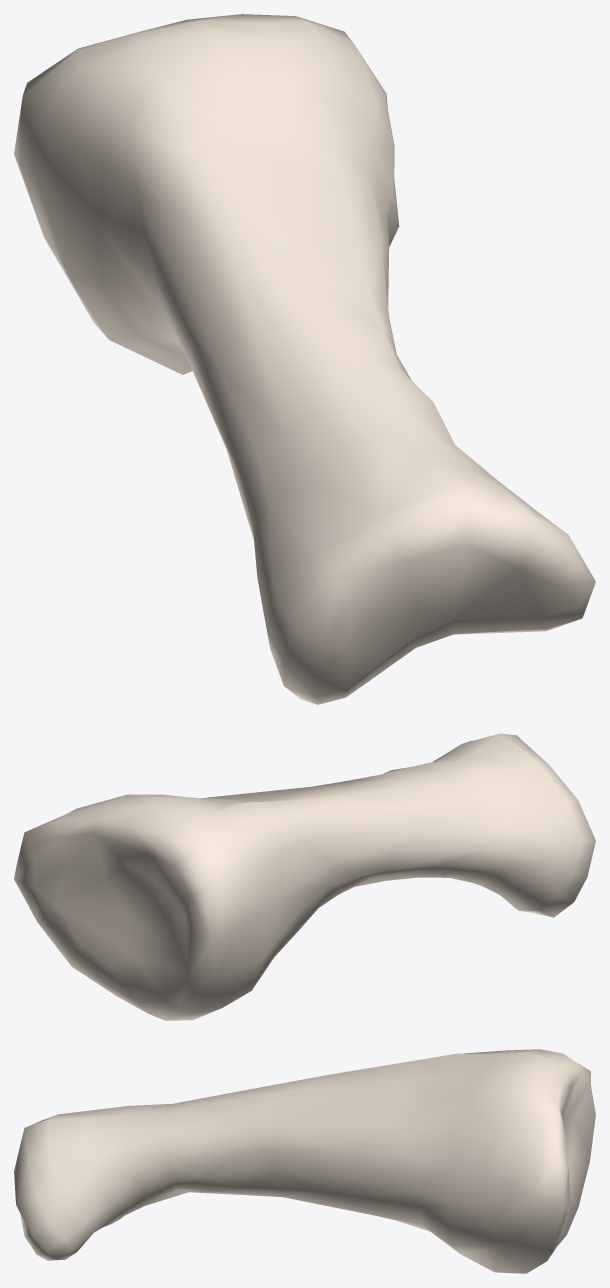
Rendered from right_toe_2_proximal.glb.
3 views of the same model, one above another, from view 1: azimuth 30°, elevation 25°; view 2: azimuth 150°, elevation 25°; view 3: azimuth 270°, elevation 25° (orthographic). The views are drawn at different scales.
Parts seen in each view (by area): view 1: Proximal phalanx of second finger of foot.r; view 2: Proximal phalanx of second finger of foot.r; view 3: Proximal phalanx of second finger of foot.r.
Boxes of the visible parts, left/top/right/bottom form: Proximal phalanx of second finger of foot.r: left=14, top=14, right=595, bottom=704; Proximal phalanx of second finger of foot.r: left=14, top=733, right=595, bottom=1020; Proximal phalanx of second finger of foot.r: left=14, top=1049, right=595, bottom=1273.
Size of the model in its own units: 0.0103 by 0.00757 by 0.0176.
